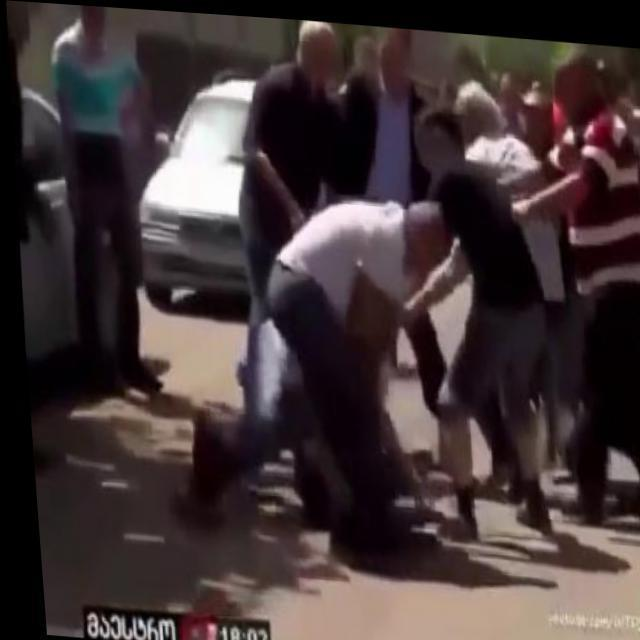fight: (240, 180, 550, 560)
